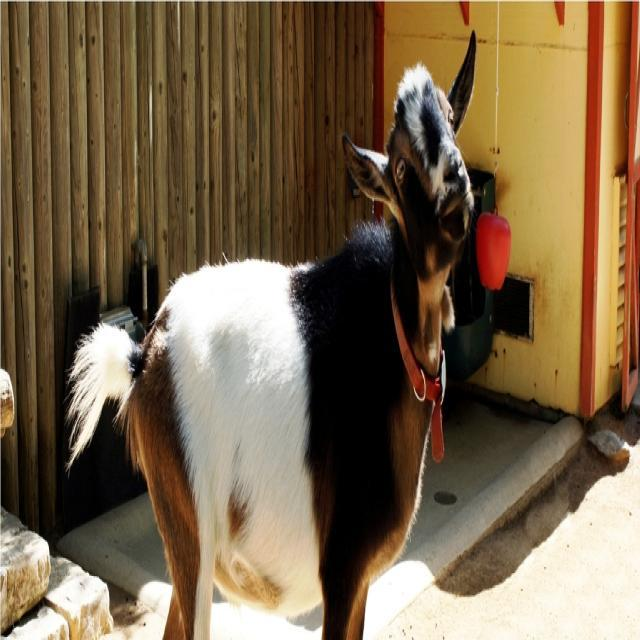Goat: (63, 27, 476, 637)
